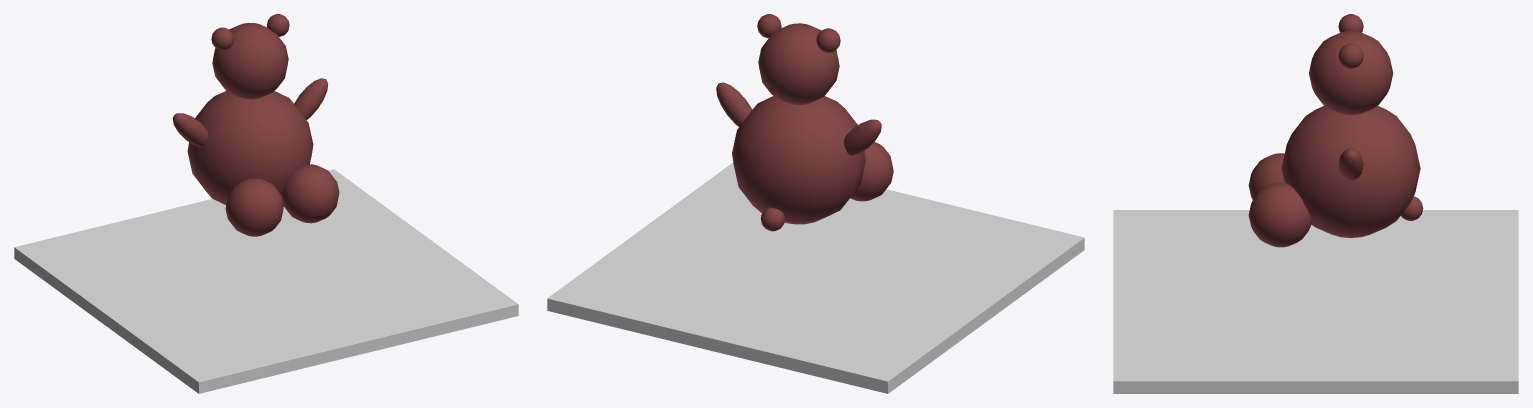
Rendered from kuma.obj.
3 renders of one model, left to right at view 1: azimuth 30°, elevation 25°; view 2: azimuth 150°, elevation 25°; view 3: azimuth 270°, elevation 25°, orthographic. The views are drawn at different scales.
Bounding box in the file's own units: 5.78 × 4.38 × 5.78.
